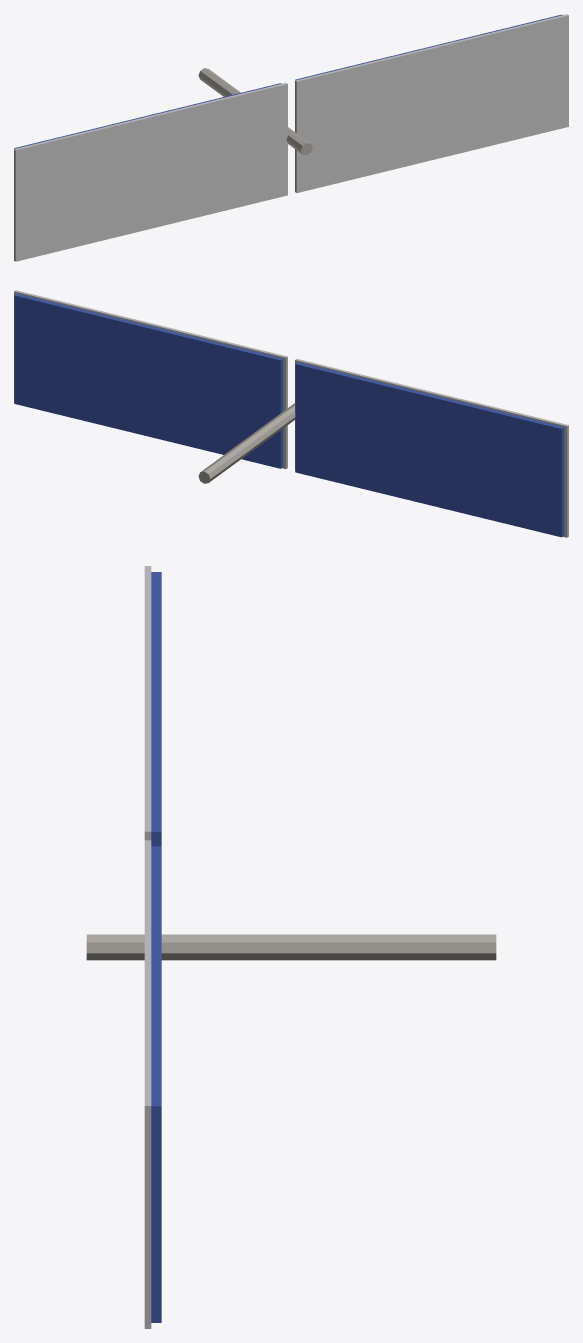
File: solar-array.glb
The picture shows the model from 3 angles, top to bottom: view 1: azimuth 30°, elevation 25°; view 2: azimuth 150°, elevation 25°; view 3: azimuth 270°, elevation 25°; orthographic projection. The views are drawn at different scales.
Visible parts, largest first — view 1: geometry_3, geometry_4, geometry_0, geometry_2, geometry_1; view 2: geometry_1, geometry_2, geometry_3, geometry_0, geometry_4; view 3: geometry_0, geometry_2, geometry_4, geometry_1, geometry_3.
Boxes of the visible parts, x1,y1,x2,y2 form: geometry_3: [14, 83, 287, 261]; geometry_4: [295, 14, 568, 192]; geometry_0: [198, 68, 312, 155]; geometry_2: [295, 14, 562, 80]; geometry_1: [14, 83, 281, 148]; geometry_1: [295, 362, 564, 537]; geometry_2: [14, 293, 283, 468]; geometry_3: [295, 359, 568, 537]; geometry_0: [198, 403, 295, 483]; geometry_4: [14, 290, 287, 468]; geometry_0: [86, 934, 496, 960]; geometry_2: [151, 846, 161, 1322]; geometry_4: [144, 840, 151, 1328]; geometry_1: [151, 572, 161, 846]; geometry_3: [144, 566, 151, 840].
Size of the model in its own units: 3.74 by 0.72 by 1.2.
